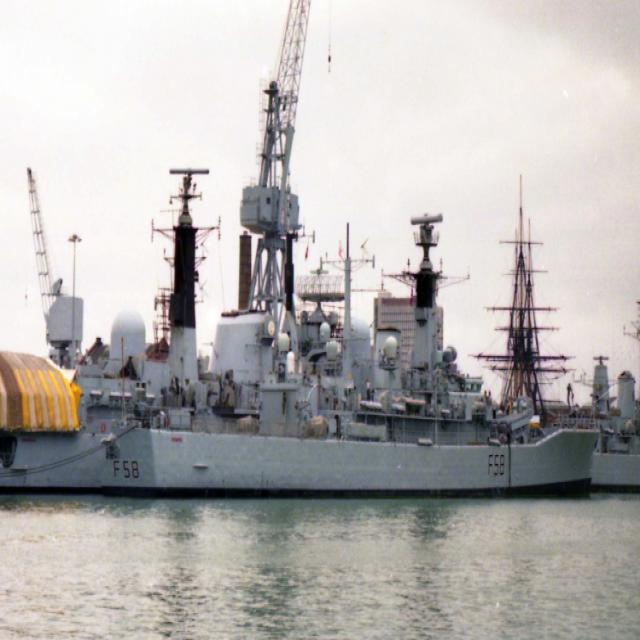Fragata: (14, 207, 607, 505)
